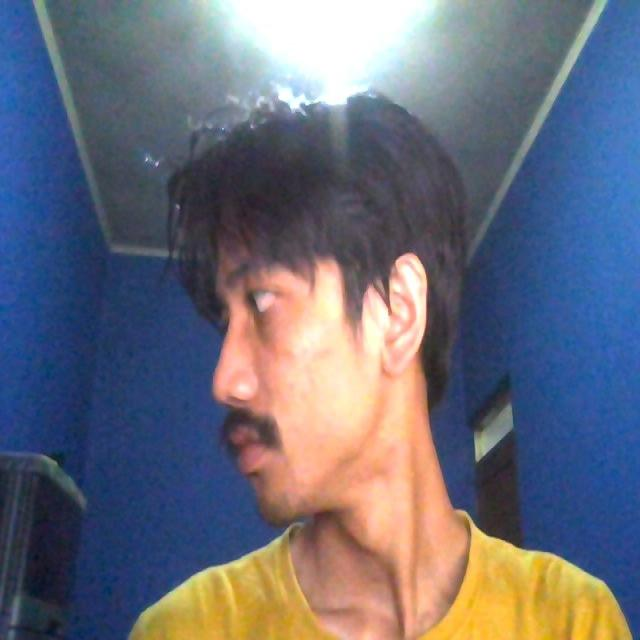Melihat kekanan: (148, 82, 502, 530)
